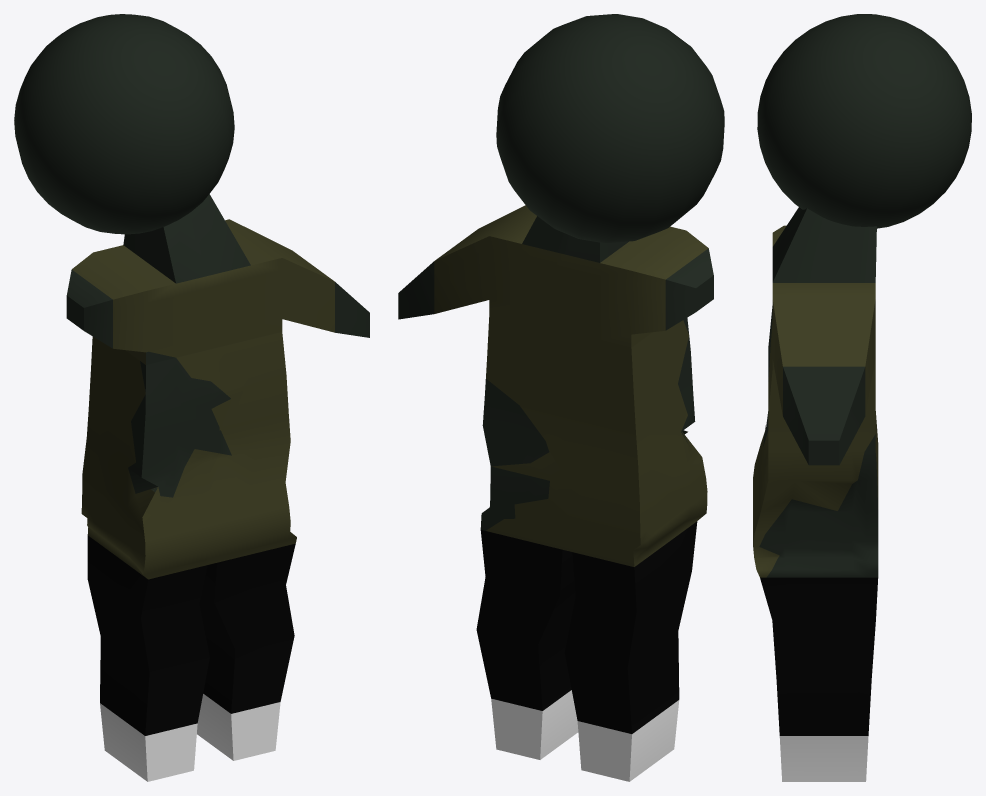
File: male_zom1.obj
3 views of the same model, side by side, from view 1: azimuth 30°, elevation 25°; view 2: azimuth 150°, elevation 25°; view 3: azimuth 270°, elevation 25° (orthographic). The views are drawn at different scales.
Visible parts, largest first — view 1: pSphere9; view 2: pSphere9; view 3: pSphere9.
Part boxes in pixels (bbox=[...]): pSphere9: bbox=[14, 14, 369, 781]; pSphere9: bbox=[398, 14, 724, 781]; pSphere9: bbox=[753, 14, 971, 781].
Size of the model in its own units: 3.26 by 7.2 by 2.02.
